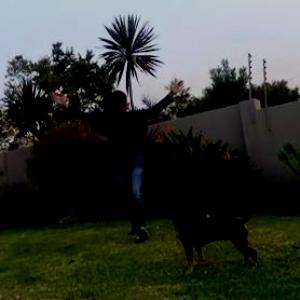takeoff: (44, 72, 183, 231)
